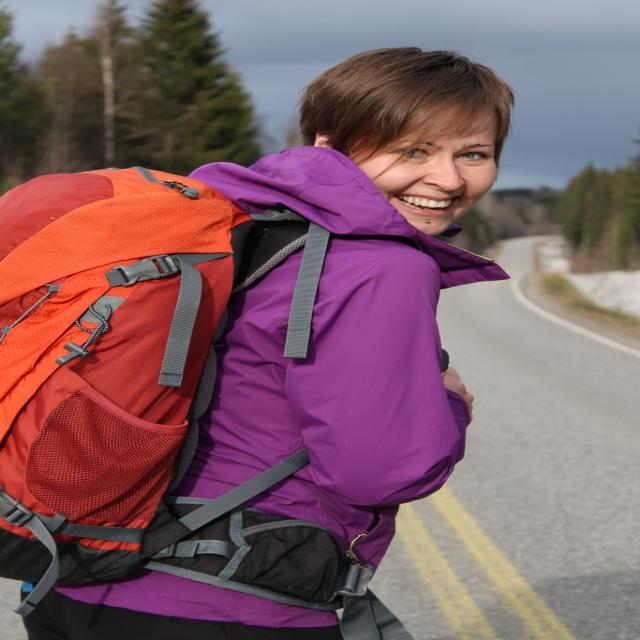backpack: (0, 163, 395, 590)
